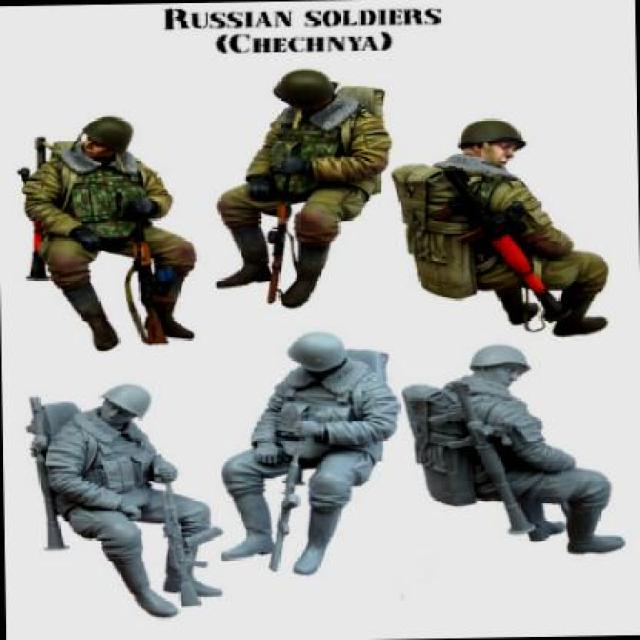MIL_Pax: (8, 378, 226, 624), (395, 340, 619, 565), (390, 112, 607, 340), (216, 330, 402, 584), (210, 63, 392, 311), (19, 110, 201, 353)
